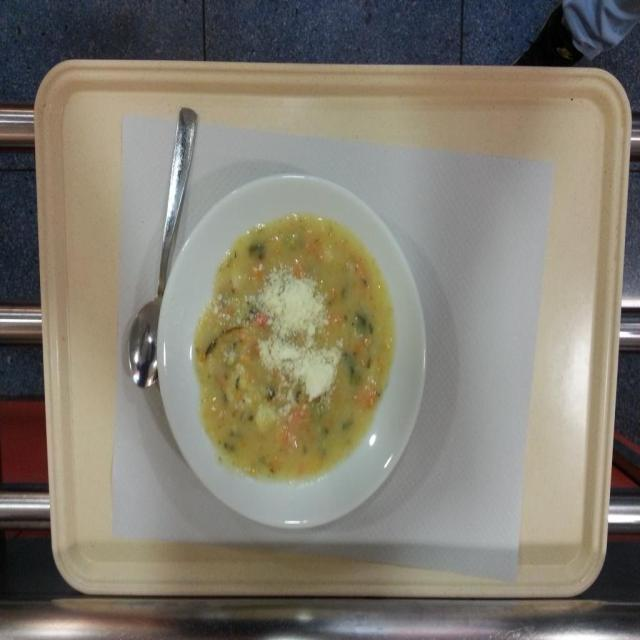plate: (156, 169, 429, 539)
